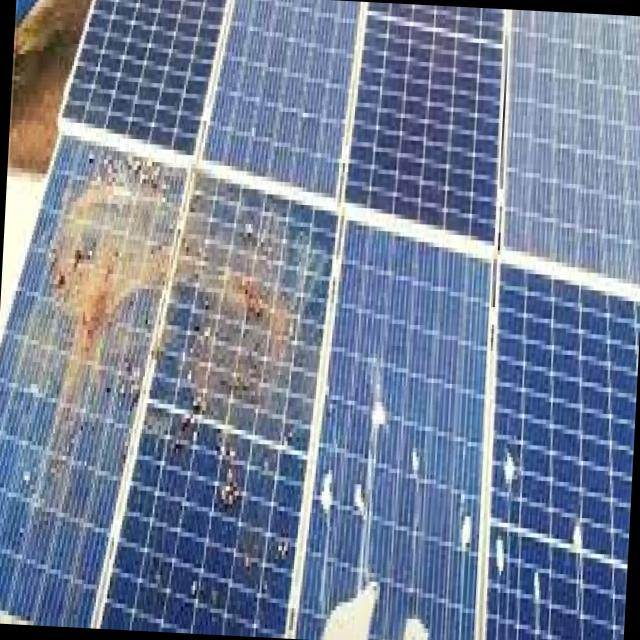faulty: (103, 169, 337, 636), (0, 128, 188, 627), (293, 207, 491, 640), (483, 256, 640, 640)
no faulty: (63, 0, 640, 283)
